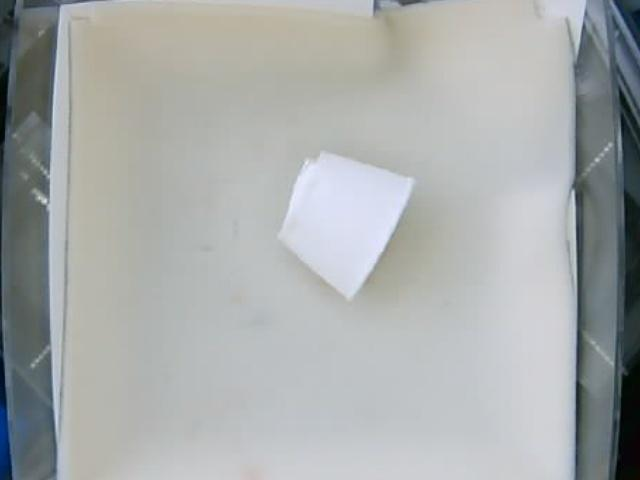Cup: (282, 151, 416, 305)
